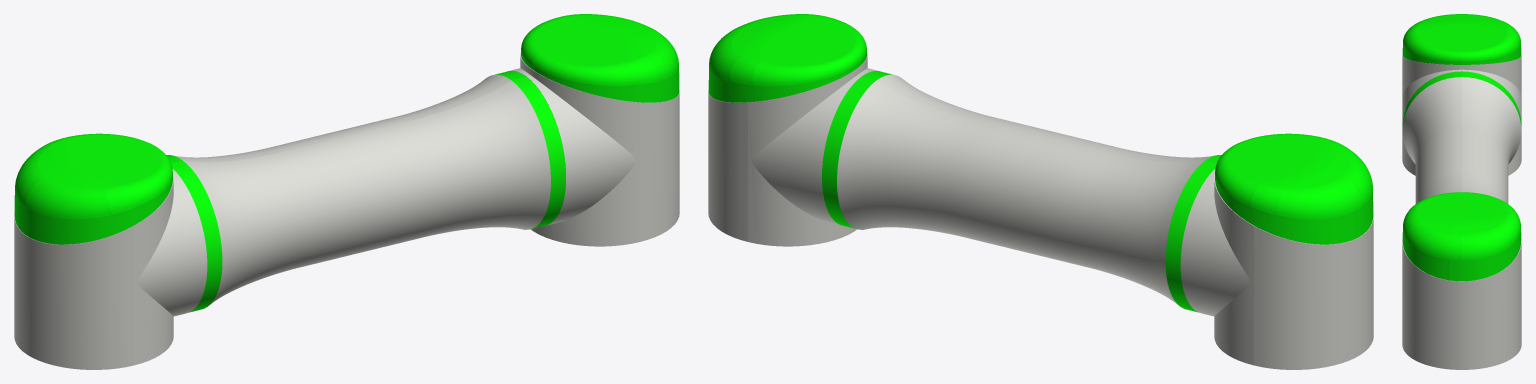
3 views of the same model, side by side, from view 1: azimuth 30°, elevation 25°; view 2: azimuth 150°, elevation 25°; view 3: azimuth 270°, elevation 25° (orthographic). The views are drawn at different scales.
Parts seen in each view (by area): view 1: link2.001; view 2: link2.001; view 3: link2.001.
Part boxes in pixels (x1,y1,x2,y2): link2.001: (14, 14, 679, 369); link2.001: (708, 14, 1373, 369); link2.001: (1402, 14, 1521, 369).
Size of the model in its own units: 0.5409 by 0.116 by 0.1396.
